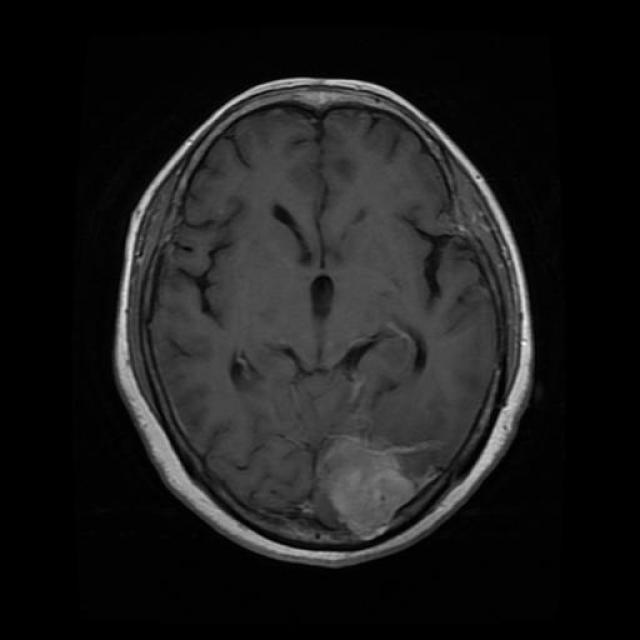Tumor: (316, 432, 426, 534)
